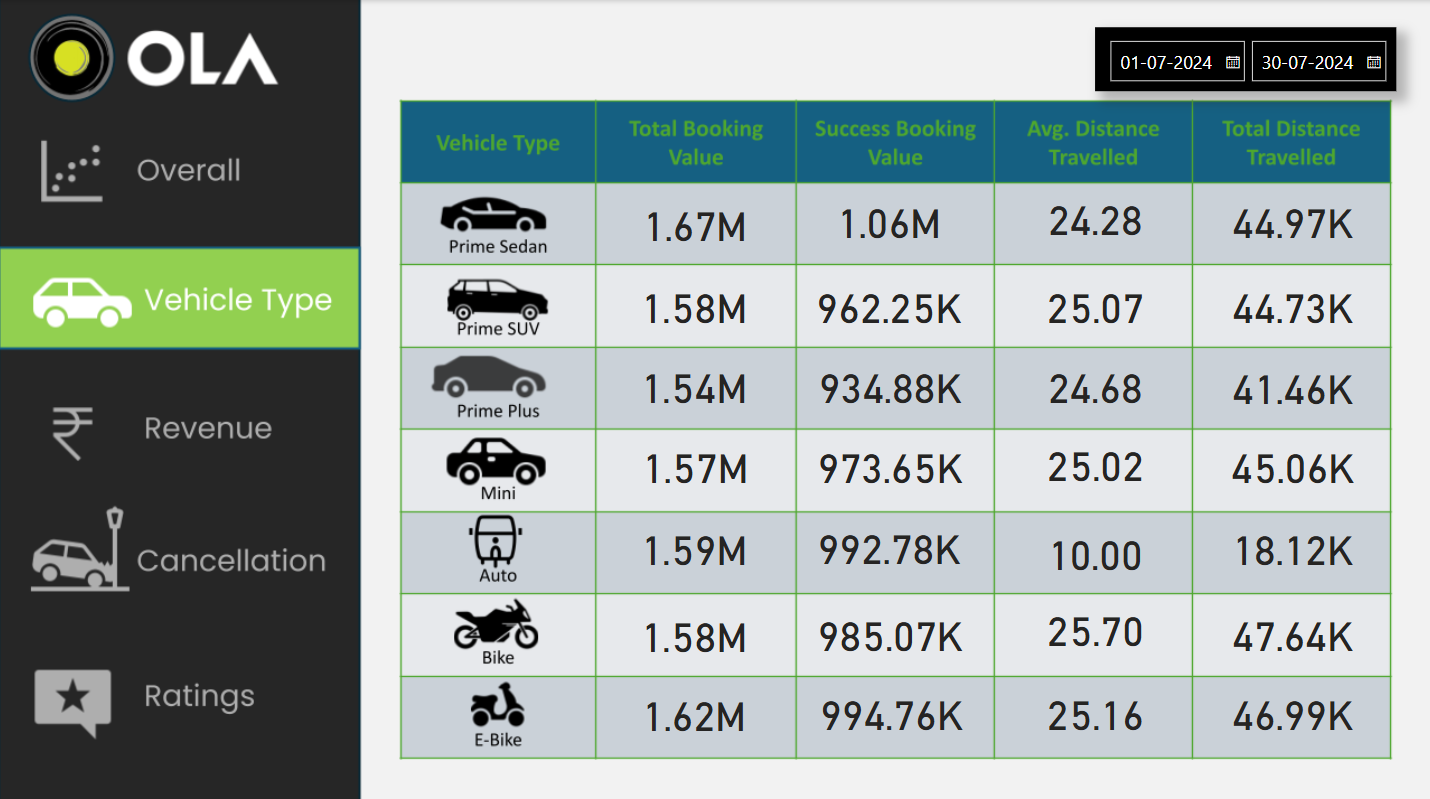

Layout of this report page (visuals, bound fields, positions):
{"tool":"powerbi","page":{"name":"Vehicle Type","canvas":[1280,720],"ordinal":1},"visuals":[{"type":"actionButton","box":[0,336.1,321.6,91.6],"z":0},{"type":"actionButton","box":[0,112.8,321.6,82.6],"z":1000},{"type":"actionButton","box":[0,443.3,321.6,111.7],"z":2000},{"type":"actionButton","box":[0,577.3,321.6,99.4],"z":3000},{"type":"card","fields":{"Values":["Sum(Bookings-20000-Rows xlsx - July.Booking_Value)"]},"box":[540.7,169.8,162.8,59.3],"z":4000},{"type":"card","fields":{"Values":["Sum(Bookings-20000-Rows xlsx - July.Booking_Value)"]},"box":[539.3,240.1,163.3,64.5],"z":5000},{"type":"card","fields":{"Values":["Sum(Bookings-20000-Rows xlsx - July.Booking_Value)"]},"box":[539.3,317,163.3,54.9],"z":6000},{"type":"card","fields":{"Values":["Sum(Bookings-20000-Rows xlsx - July.Booking_Value)"]},"box":[540.7,388.3,163.3,54.9],"z":7000},{"type":"card","fields":{"Values":["Sum(Bookings-20000-Rows xlsx - July.Booking_Value)"]},"box":[539.3,461.1,163.3,54.9],"z":8000},{"type":"card","fields":{"Values":["Sum(Bookings-20000-Rows xlsx - July.Booking_Value)"]},"box":[539.3,539.3,163.3,54.9],"z":9000},{"type":"card","fields":{"Values":["Sum(Bookings-20000-Rows xlsx - July.Booking_Value)"]},"box":[539.3,609.3,163.3,54.9],"z":10000},{"type":"card","fields":{"Values":["Sum(Bookings-20000-Rows xlsx - July.Booking_Value)"]},"box":[713.6,164.7,163.3,64.5],"z":11000},{"type":"card","fields":{"Values":["Sum(Bookings-20000-Rows xlsx - July.Booking_Value)"]},"box":[713.6,240.1,163.3,64.5],"z":12000},{"type":"card","fields":{"Values":["Sum(Bookings-20000-Rows xlsx - July.Booking_Value)"]},"box":[714.9,311.5,163.3,64.5],"z":13000},{"type":"card","fields":{"Values":["Sum(Bookings-20000-Rows xlsx - July.Booking_Value)"]},"box":[714.9,382.8,163.3,64.5],"z":14000},{"type":"card","fields":{"Values":["Sum(Bookings-20000-Rows xlsx - July.Booking_Value)"]},"box":[713.6,455.6,163.3,64.5],"z":15000},{"type":"card","fields":{"Values":["Sum(Bookings-20000-Rows xlsx - July.Booking_Value)"]},"box":[714.9,533.8,163.3,64.5],"z":16000},{"type":"card","fields":{"Values":["Sum(Bookings-20000-Rows xlsx - July.Booking_Value)"]},"box":[716.3,603.8,163.3,64.5],"z":17000},{"type":"card","fields":{"Values":["Avg(Bookings-20000-Rows xlsx - July.Ride_Distance)"]},"box":[897.4,161.9,163.3,64.5],"z":18000},{"type":"card","fields":{"Values":["Avg(Bookings-20000-Rows xlsx - July.Ride_Distance)"]},"box":[897.4,240.1,163.3,64.5],"z":19000},{"type":"card","fields":{"Values":["Avg(Bookings-20000-Rows xlsx - July.Ride_Distance)"]},"box":[897.4,311.5,163.3,64.5],"z":20000},{"type":"card","fields":{"Values":["Avg(Bookings-20000-Rows xlsx - July.Ride_Distance)"]},"box":[897.4,381.5,163.3,64.5],"z":21000},{"type":"card","fields":{"Values":["Avg(Bookings-20000-Rows xlsx - July.Ride_Distance)"]},"box":[897.4,461.1,163.3,64.5],"z":22000},{"type":"card","fields":{"Values":["Avg(Bookings-20000-Rows xlsx - July.Ride_Distance)"]},"box":[897.4,529.7,163.3,64.5],"z":23000},{"type":"card","fields":{"Values":["Avg(Bookings-20000-Rows xlsx - July.Ride_Distance)"]},"box":[897.4,603.8,163.3,64.5],"z":24000},{"type":"card","fields":{"Values":["Sum(Bookings-20000-Rows xlsx - July.Ride_Distance)"]},"box":[1074.4,164.7,163.3,64.5],"z":25000},{"type":"card","fields":{"Values":["Sum(Bookings-20000-Rows xlsx - July.Ride_Distance)"]},"box":[1074.4,240.1,163.3,64.5],"z":26000},{"type":"card","fields":{"Values":["Sum(Bookings-20000-Rows xlsx - July.Ride_Distance)"]},"box":[1074.4,312.9,163.3,64.5],"z":27000},{"type":"card","fields":{"Values":["Sum(Bookings-20000-Rows xlsx - July.Ride_Distance)"]},"box":[1074.4,382.8,163.3,64.5],"z":28000},{"type":"card","fields":{"Values":["Sum(Bookings-20000-Rows xlsx - July.Ride_Distance)"]},"box":[1074.4,456.9,163.3,64.5],"z":29000},{"type":"card","fields":{"Values":["Sum(Bookings-20000-Rows xlsx - July.Ride_Distance)"]},"box":[1074.4,533.8,163.3,64.5],"z":30000},{"type":"card","fields":{"Values":["Sum(Bookings-20000-Rows xlsx - July.Ride_Distance)"]},"box":[1074.4,603.8,163.3,64.5],"z":31000},{"type":"slicer","title":"Date","fields":{"Values":["Bookings-20000-Rows xlsx - July.Date"]},"box":[979.1,24.4,268.6,57],"z":32000}]}

Visuals, with their boxes on the page's 1280x720 design canvas (x1, y1, x2, y2). These are canvas units, not pixel positions in the 1430x799 screenshot, which may show the page scaled, cropped or inside an application window:
actionButton: Rect(0, 336, 322, 428)
actionButton: Rect(0, 113, 322, 195)
actionButton: Rect(0, 443, 322, 555)
actionButton: Rect(0, 577, 322, 677)
card - Sum(Bookings-20000-Rows xlsx - July.Booking_Value): Rect(541, 170, 704, 229)
card - Sum(Bookings-20000-Rows xlsx - July.Booking_Value): Rect(539, 240, 703, 305)
card - Sum(Bookings-20000-Rows xlsx - July.Booking_Value): Rect(539, 317, 703, 372)
card - Sum(Bookings-20000-Rows xlsx - July.Booking_Value): Rect(541, 388, 704, 443)
card - Sum(Bookings-20000-Rows xlsx - July.Booking_Value): Rect(539, 461, 703, 516)
card - Sum(Bookings-20000-Rows xlsx - July.Booking_Value): Rect(539, 539, 703, 594)
card - Sum(Bookings-20000-Rows xlsx - July.Booking_Value): Rect(539, 609, 703, 664)
card - Sum(Bookings-20000-Rows xlsx - July.Booking_Value): Rect(714, 165, 877, 229)
card - Sum(Bookings-20000-Rows xlsx - July.Booking_Value): Rect(714, 240, 877, 305)
card - Sum(Bookings-20000-Rows xlsx - July.Booking_Value): Rect(715, 312, 878, 376)
card - Sum(Bookings-20000-Rows xlsx - July.Booking_Value): Rect(715, 383, 878, 447)
card - Sum(Bookings-20000-Rows xlsx - July.Booking_Value): Rect(714, 456, 877, 520)
card - Sum(Bookings-20000-Rows xlsx - July.Booking_Value): Rect(715, 534, 878, 598)
card - Sum(Bookings-20000-Rows xlsx - July.Booking_Value): Rect(716, 604, 880, 668)
card - Avg(Bookings-20000-Rows xlsx - July.Ride_Distance): Rect(897, 162, 1061, 226)
card - Avg(Bookings-20000-Rows xlsx - July.Ride_Distance): Rect(897, 240, 1061, 305)
card - Avg(Bookings-20000-Rows xlsx - July.Ride_Distance): Rect(897, 312, 1061, 376)
card - Avg(Bookings-20000-Rows xlsx - July.Ride_Distance): Rect(897, 382, 1061, 446)
card - Avg(Bookings-20000-Rows xlsx - July.Ride_Distance): Rect(897, 461, 1061, 526)
card - Avg(Bookings-20000-Rows xlsx - July.Ride_Distance): Rect(897, 530, 1061, 594)
card - Avg(Bookings-20000-Rows xlsx - July.Ride_Distance): Rect(897, 604, 1061, 668)
card - Sum(Bookings-20000-Rows xlsx - July.Ride_Distance): Rect(1074, 165, 1238, 229)
card - Sum(Bookings-20000-Rows xlsx - July.Ride_Distance): Rect(1074, 240, 1238, 305)
card - Sum(Bookings-20000-Rows xlsx - July.Ride_Distance): Rect(1074, 313, 1238, 377)
card - Sum(Bookings-20000-Rows xlsx - July.Ride_Distance): Rect(1074, 383, 1238, 447)
card - Sum(Bookings-20000-Rows xlsx - July.Ride_Distance): Rect(1074, 457, 1238, 521)
card - Sum(Bookings-20000-Rows xlsx - July.Ride_Distance): Rect(1074, 534, 1238, 598)
card - Sum(Bookings-20000-Rows xlsx - July.Ride_Distance): Rect(1074, 604, 1238, 668)
"Date" slicer: Rect(979, 24, 1248, 81)
